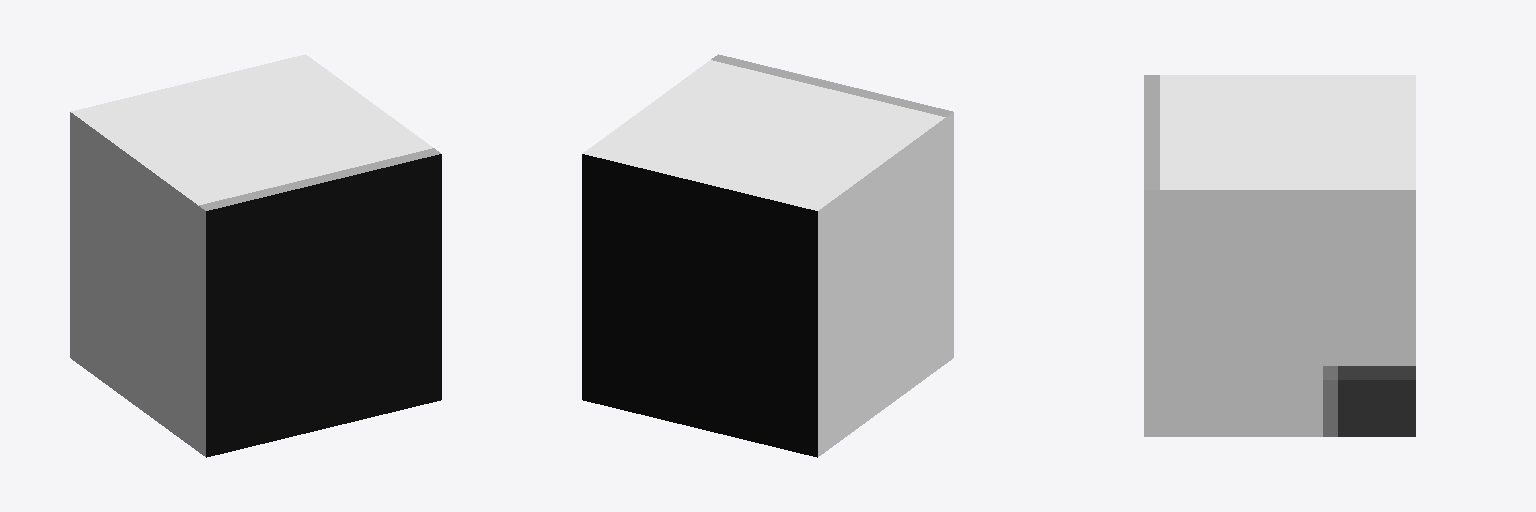
3 views of the same model, side by side, from view 1: azimuth 30°, elevation 25°; view 2: azimuth 150°, elevation 25°; view 3: azimuth 270°, elevation 25° (orthographic).
Parts seen in each view (by area): view 1: cube; view 2: cube; view 3: cube.
Boxes of the visible parts, <box> form: cube: <box>70,54,441,457</box>; cube: <box>582,54,953,457</box>; cube: <box>1144,75,1415,436</box>.
Bounding box in the file's own units: 1 × 1 × 1.
2 materials, 1 textured.